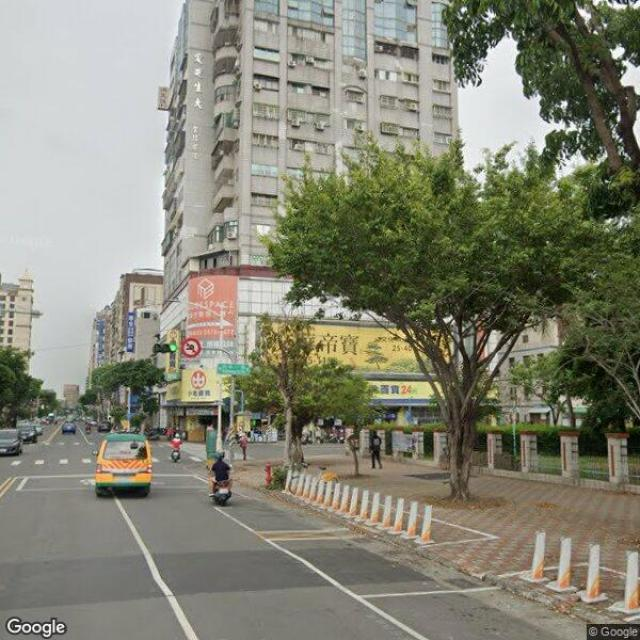illegalparking: (81, 414, 257, 538)
